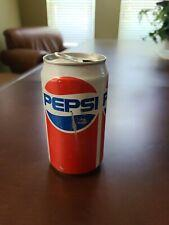metal: (42, 53, 109, 174)
